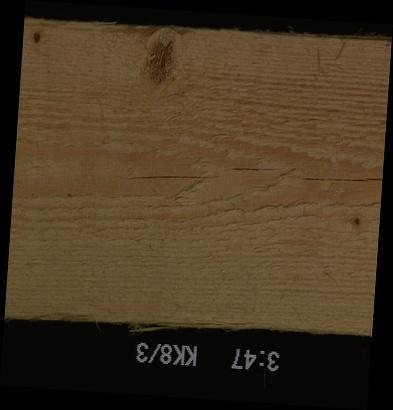dry_knot: (29, 31, 43, 46)
small_knot: (350, 214, 362, 228)
sound_knot: (143, 31, 182, 89)
split: (117, 321, 324, 336), (128, 171, 221, 181), (298, 172, 381, 183), (222, 165, 278, 176)
wave: (24, 19, 199, 32)
